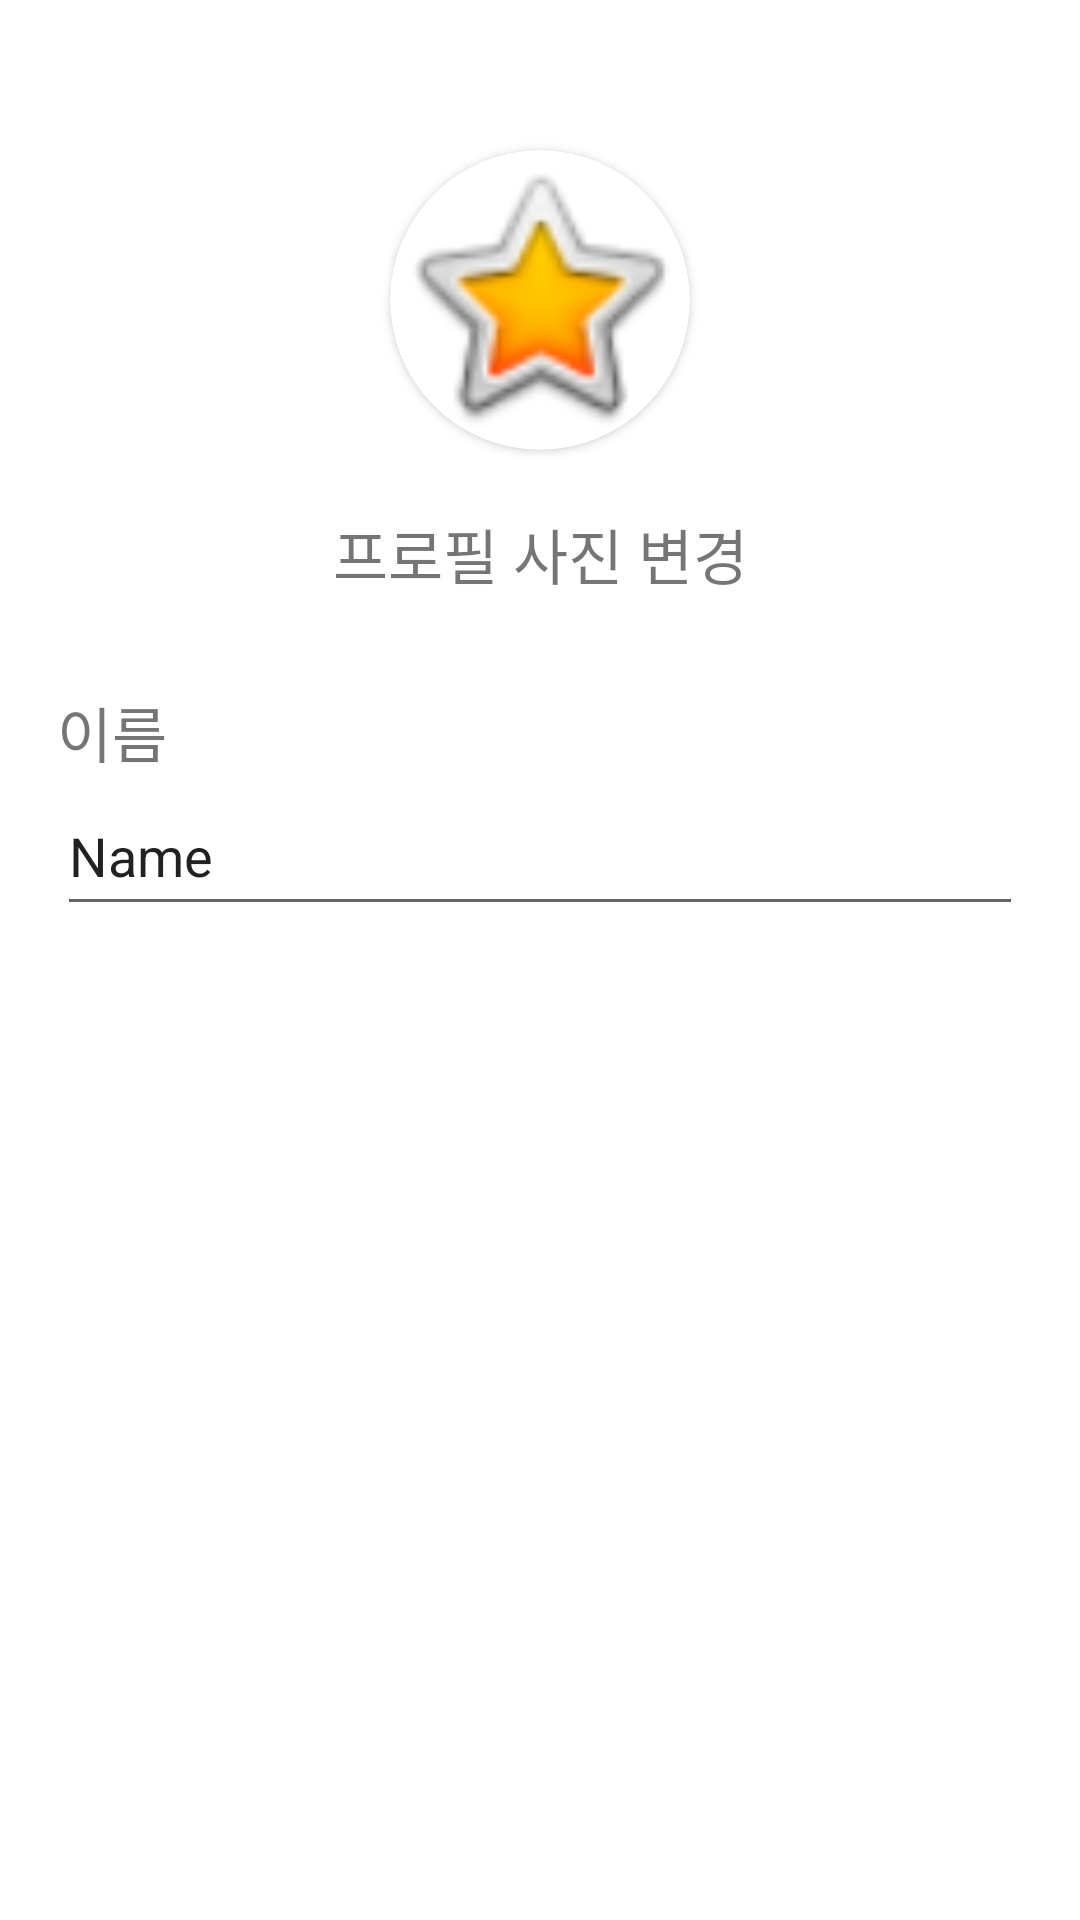

Point at icon controls on the screen. Image size 1080×1920, points as [x,y].
star on: [540,309]
